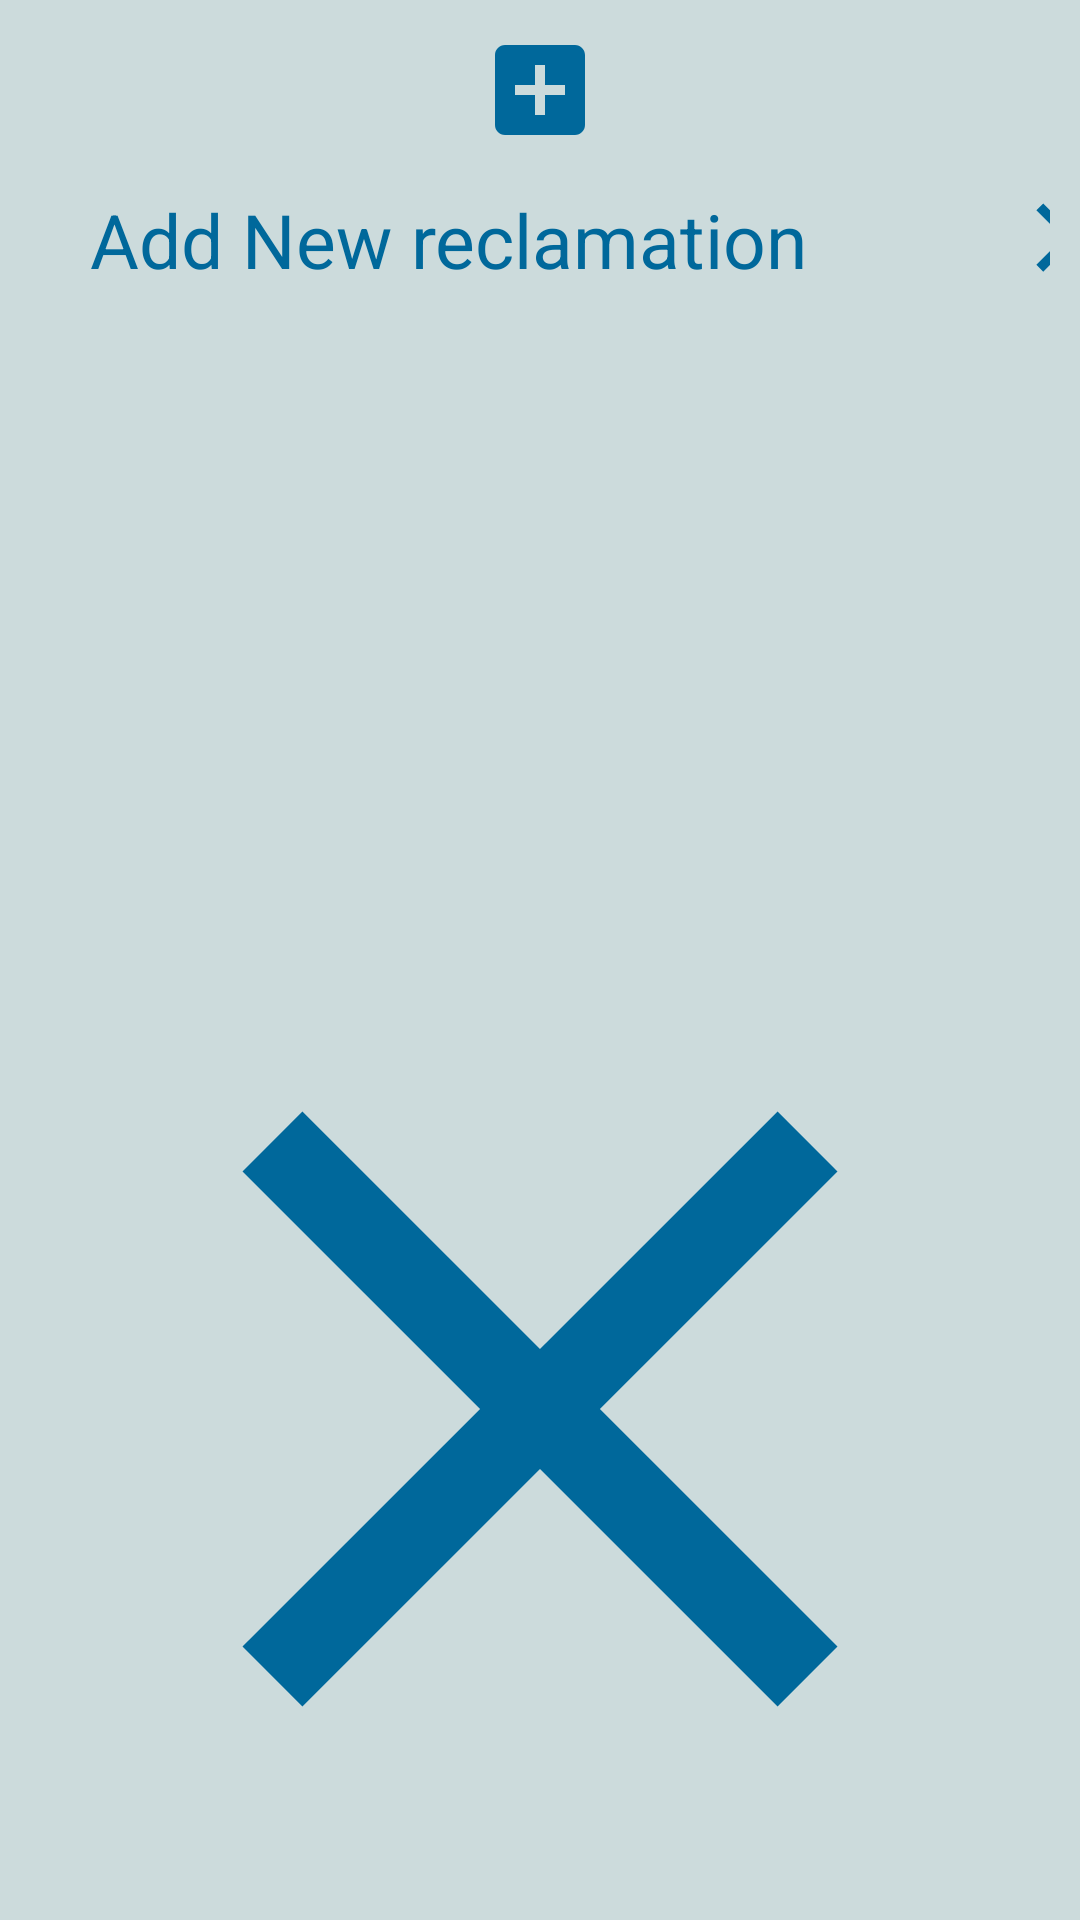

Screen size 1080px×1920px. Icon name, then its box in pixels as (x1, y1, x2, y2):
add box: (495, 45, 585, 135)
